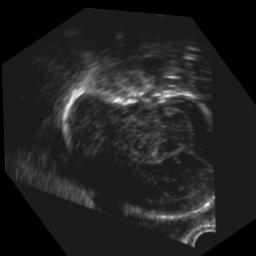abnormal: (34, 20, 256, 256)
